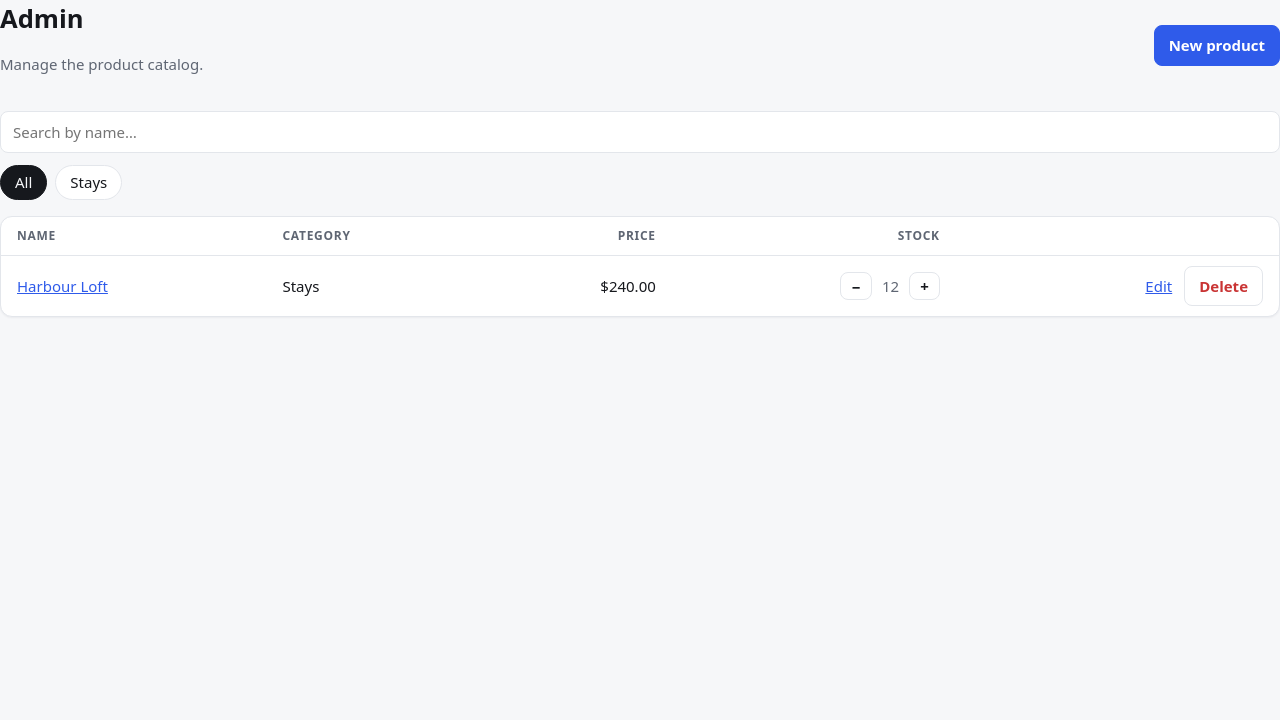
Test case: Admin catalog list › keeps the product when the admin backs out
Expected: the table is shown, [1,217,1279,316]
Click the button with aria-label "Delete Harbour Loft" at [1224, 286], box [1184,266,1263,306]
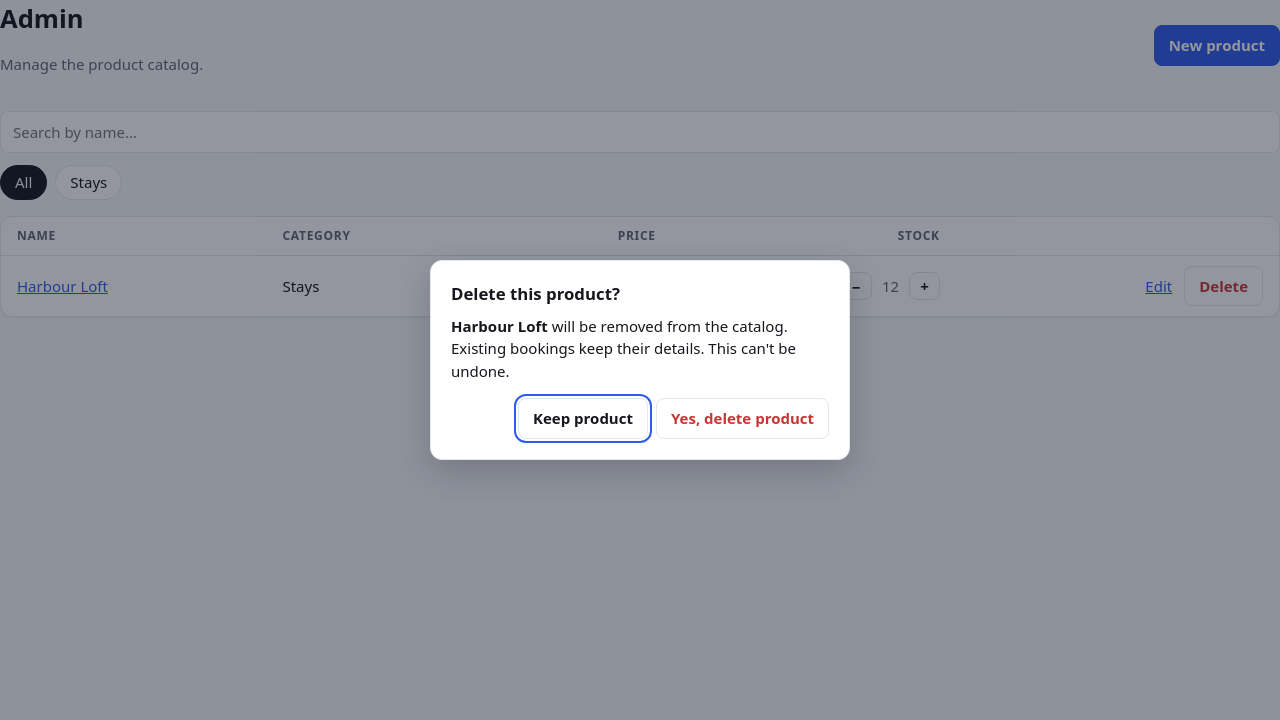
Click the button "Keep product" at [583, 418], box [518,398,648,439]
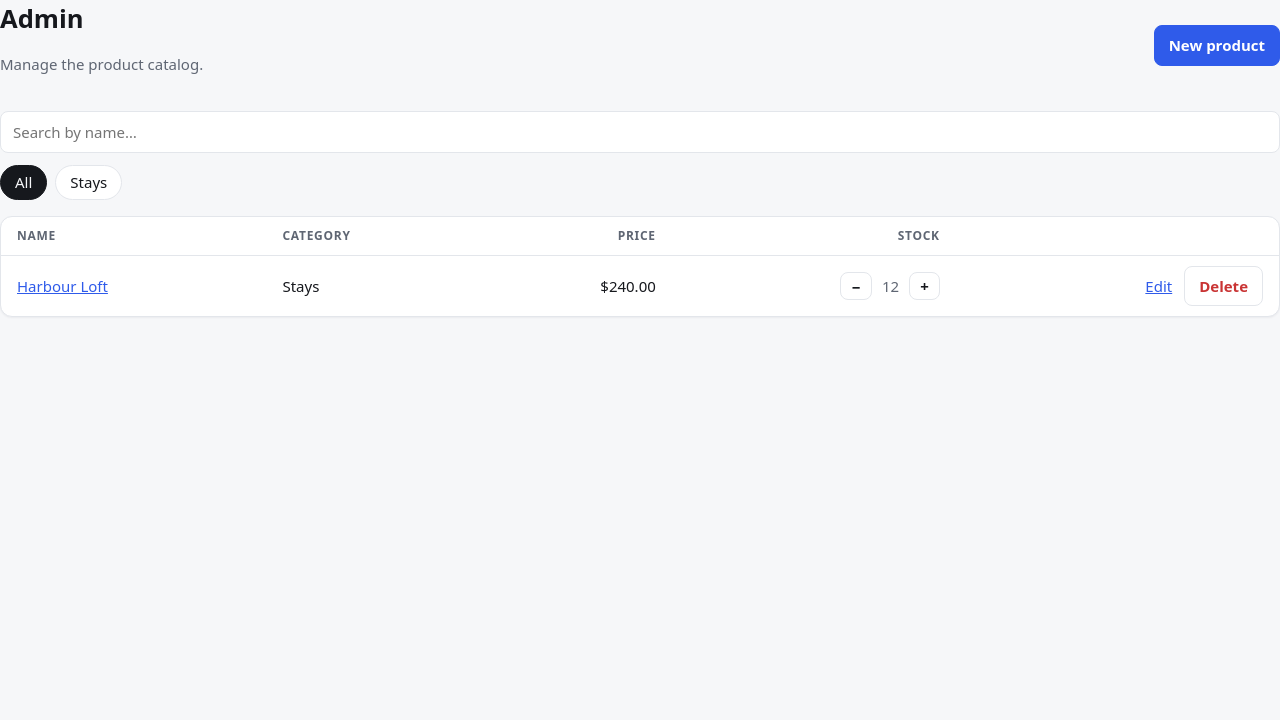
Expected: the column heading "Harbour Loft" is shown, [1,256,266,316]
Result: the dialog is gone
